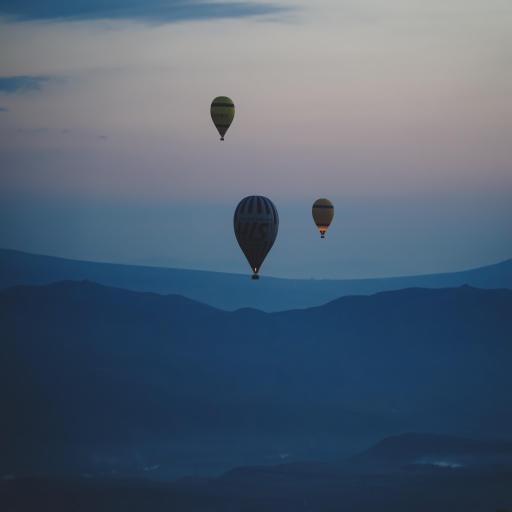hot air ballon: (233, 193, 280, 283), (207, 92, 237, 145), (310, 193, 337, 242)
